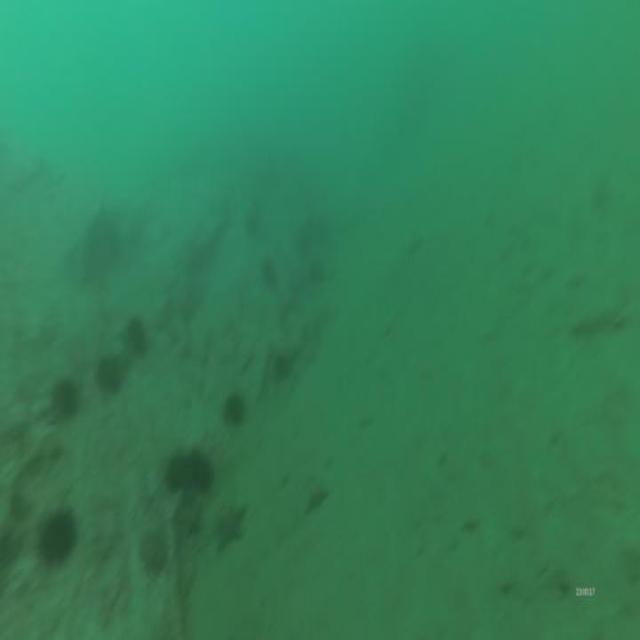echinus: (40, 510, 73, 561), (165, 452, 191, 491), (94, 352, 120, 390), (191, 446, 212, 493), (55, 376, 77, 414), (222, 394, 244, 426), (127, 319, 143, 354)
starfish: (210, 502, 244, 554), (305, 484, 327, 512)
